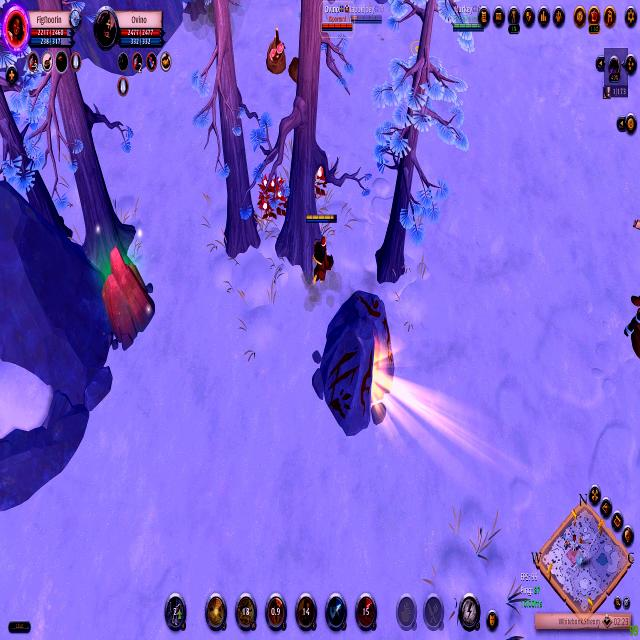hide: (255, 168, 291, 230), (291, 150, 331, 204)
red: (303, 207, 339, 292), (318, 0, 357, 50), (342, 0, 390, 39), (448, 2, 491, 38)
tree: (94, 243, 160, 366)
